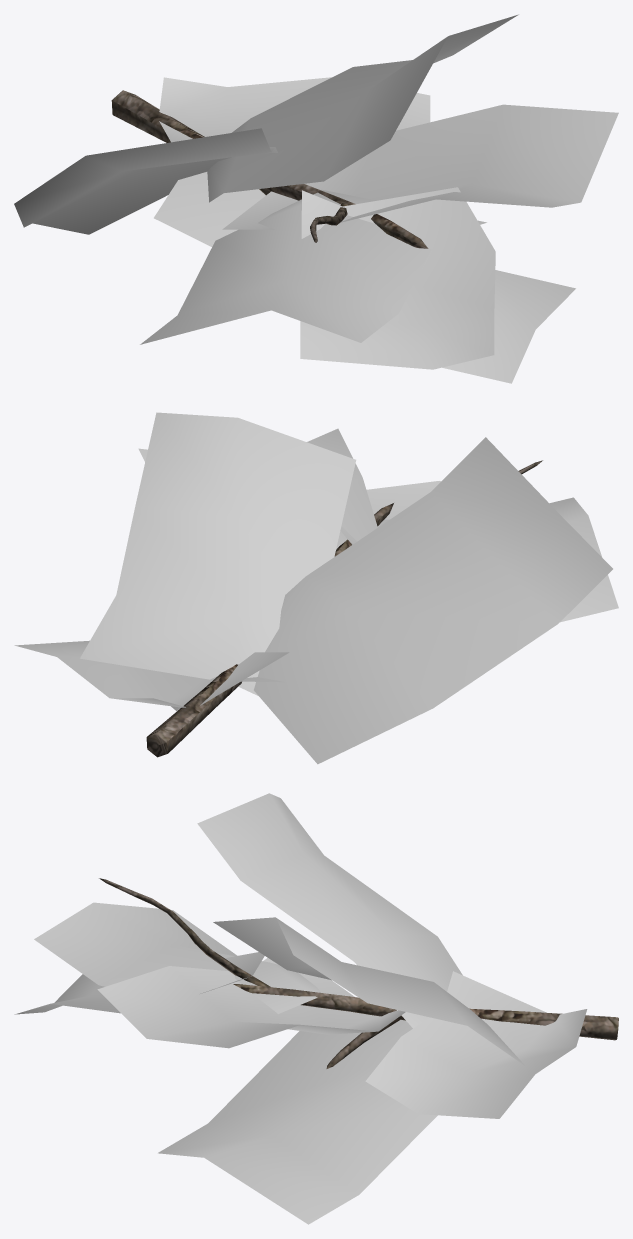
Rendered from SM_OakBranchGreenA_1.fbx.
3 views of the same model, one above another, from view 1: azimuth 30°, elevation 25°; view 2: azimuth 150°, elevation 25°; view 3: azimuth 270°, elevation 25° (orthographic). The views are drawn at different scales.
Visible parts, largest first — view 1: greenBranch_oak_thin_1; view 2: greenBranch_oak_thin_1; view 3: greenBranch_oak_thin_1.
Boxes of the visible parts, x1,y1,x2,y2 form: greenBranch_oak_thin_1: (14,14,618,383); greenBranch_oak_thin_1: (14,412,618,764); greenBranch_oak_thin_1: (14,793,618,1224).
Size of the model in its own units: 2.71 by 1.36 by 3.
